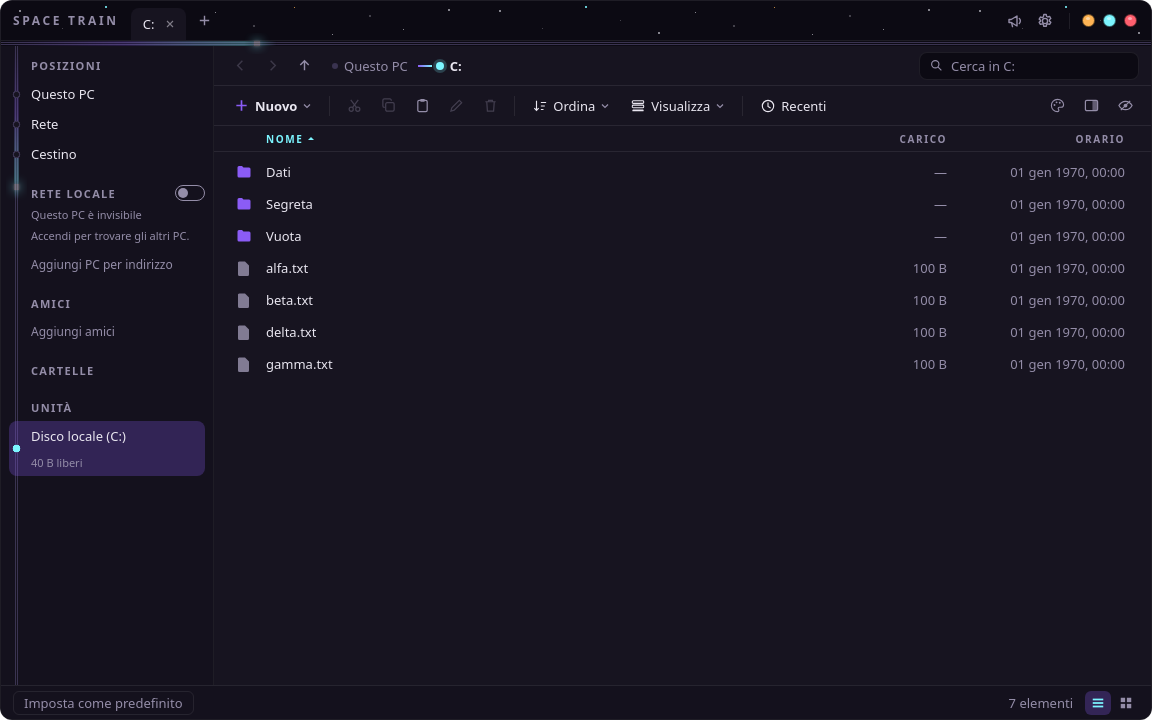
Test: preferiti › rinominando un preferito resta preferito
The width and height of the screenshot is (1152, 720).
Click the row "beta.txt 100 B 01 gen 1970, 00:00".
click(290, 300)  # box [236, 291, 1125, 309]
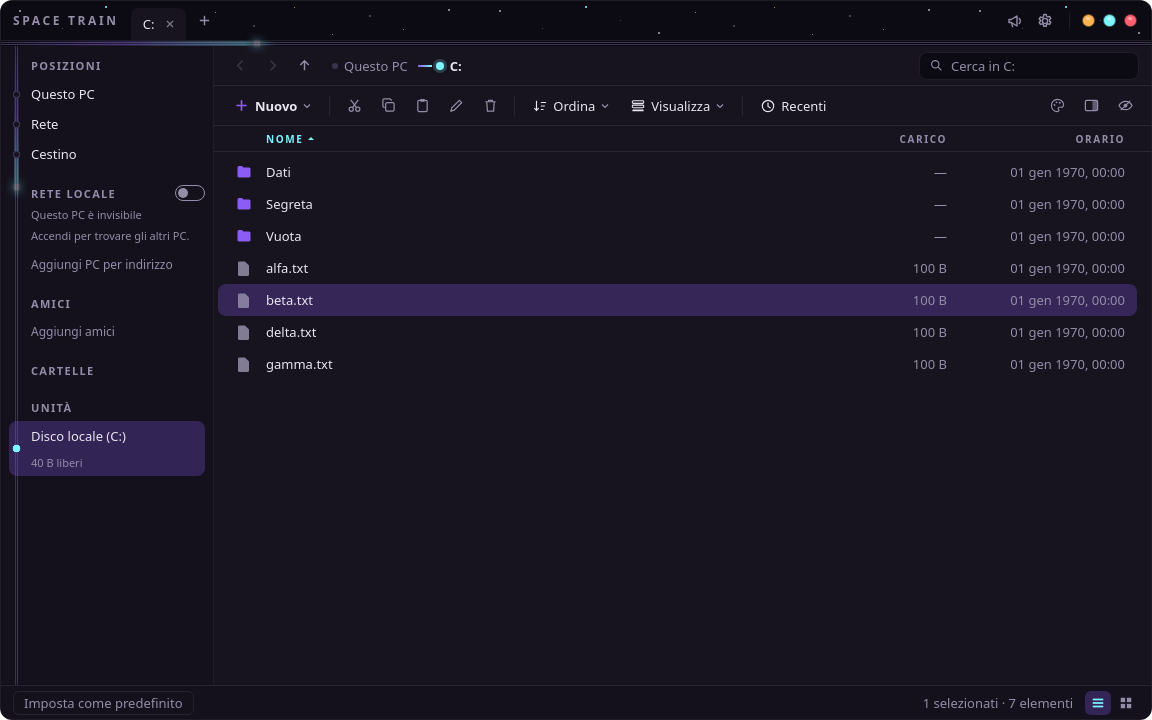
Press d
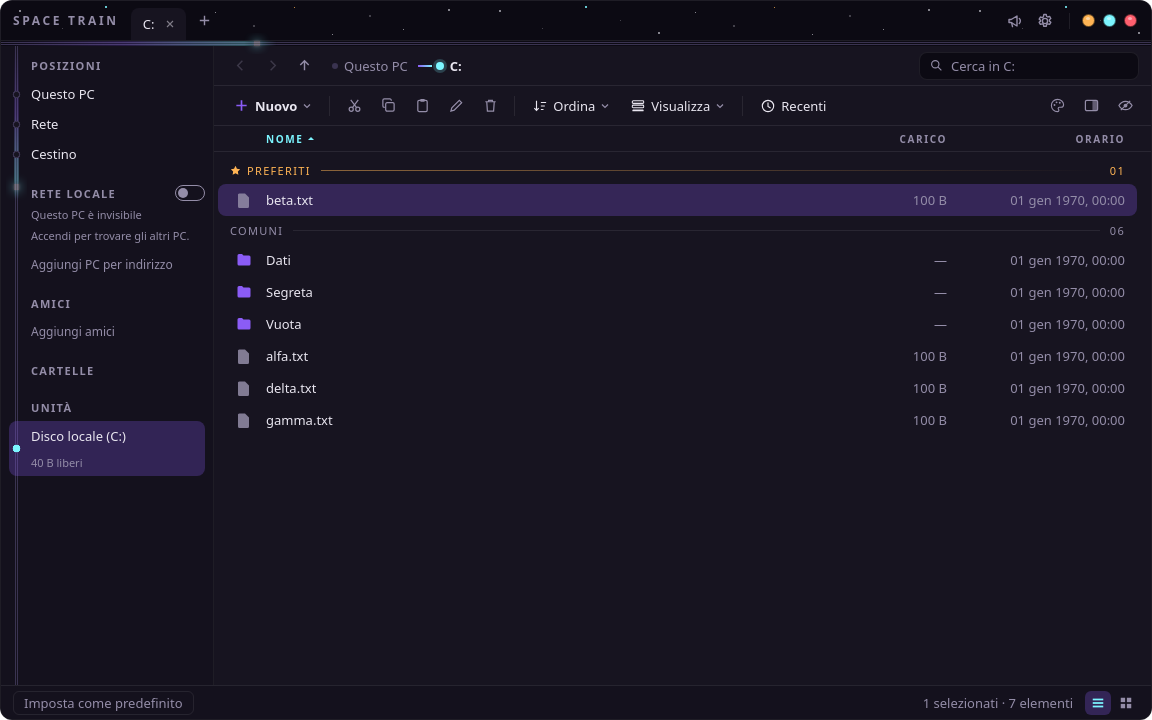
Expected: the text with class "name" reads "beta.txt", [266, 191, 313, 209]
Press F2
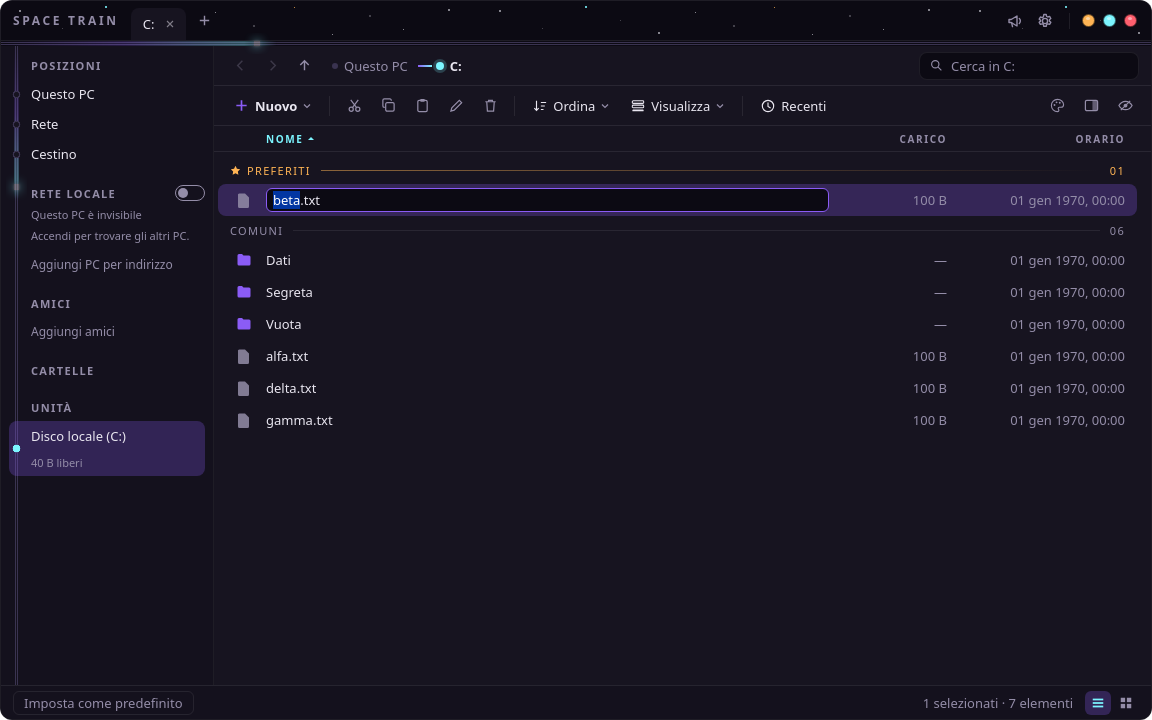
Replace the text in the field with class "rinomina" with "omega.txt" at (548, 200), box [266, 188, 829, 212]
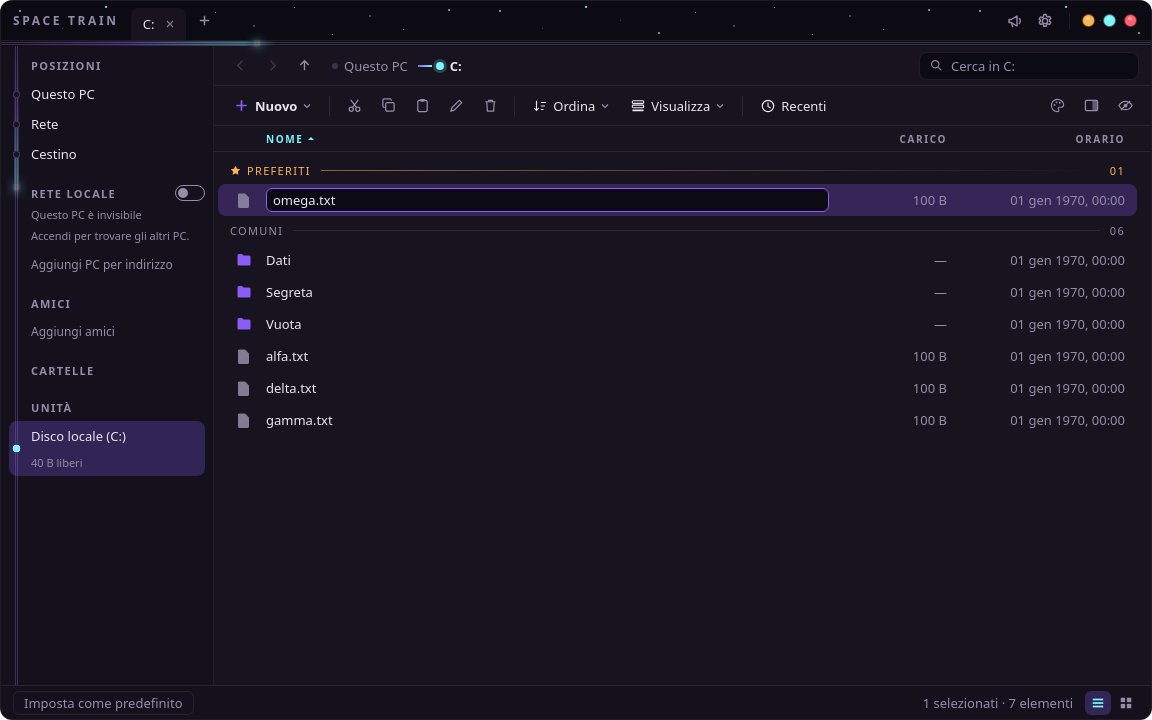
Press Enter in the field with class "rinomina", box [266, 188, 829, 212]
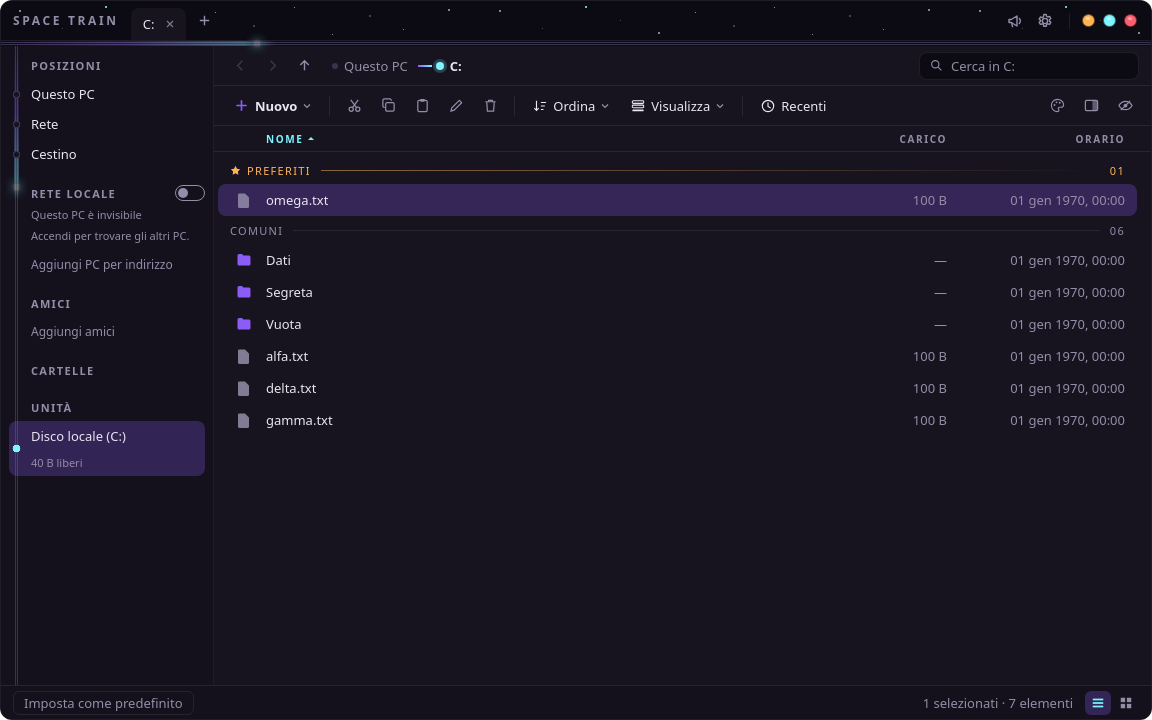
Now the text with class "name" reads "omega.txt", box [266, 191, 328, 209]
